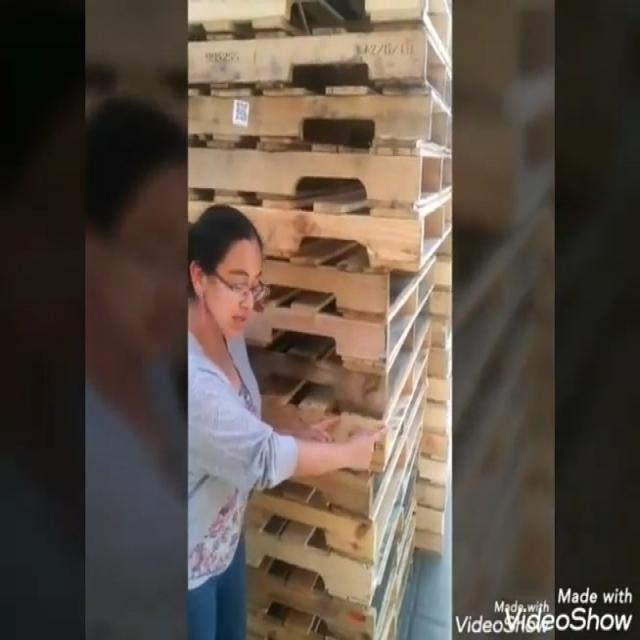Palette: (189, 0, 450, 640)
